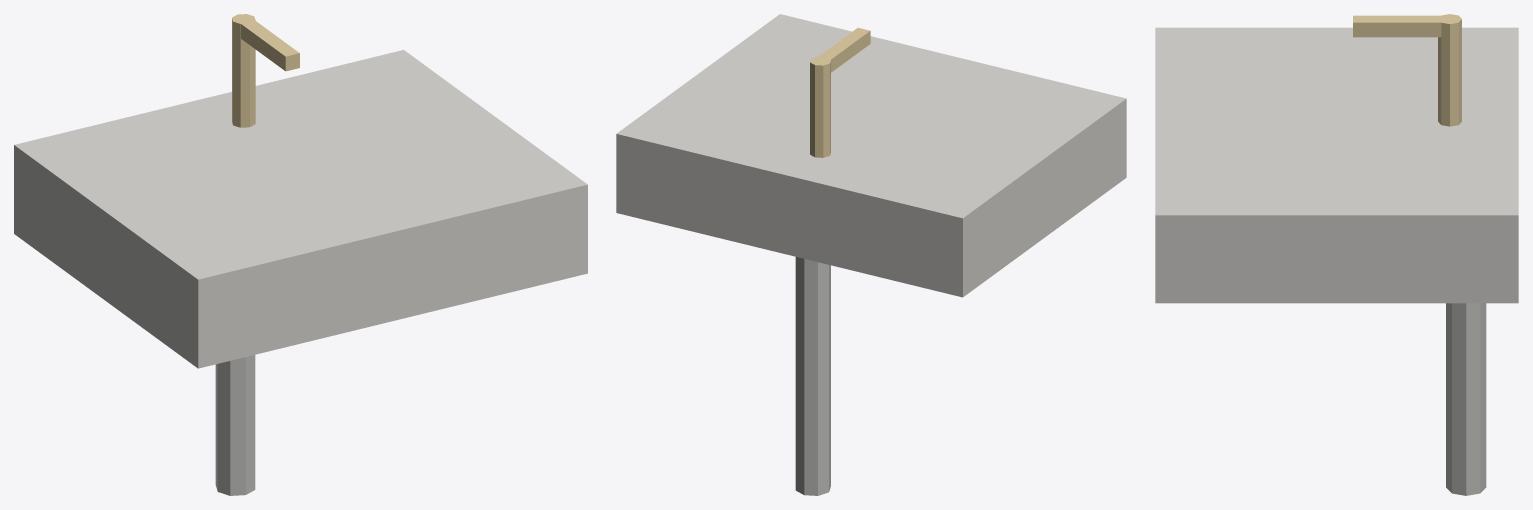
Rendered from lavatorio_pne.obj.
3 views of the same model, side by side, from view 1: azimuth 30°, elevation 25°; view 2: azimuth 150°, elevation 25°; view 3: azimuth 270°, elevation 25° (orthographic). The views are drawn at different scales.
Parts seen in each view (by area): view 1: lavatorio_pne; view 2: lavatorio_pne; view 3: lavatorio_pne.
Part boxes in pixels (box(x1,y1,x2,y2)): lavatorio_pne: box(14, 14, 587, 495); lavatorio_pne: box(616, 14, 1126, 495); lavatorio_pne: box(1155, 14, 1518, 495).
Bounding box in the file's own units: 0.55 × 0.64 × 0.45.
